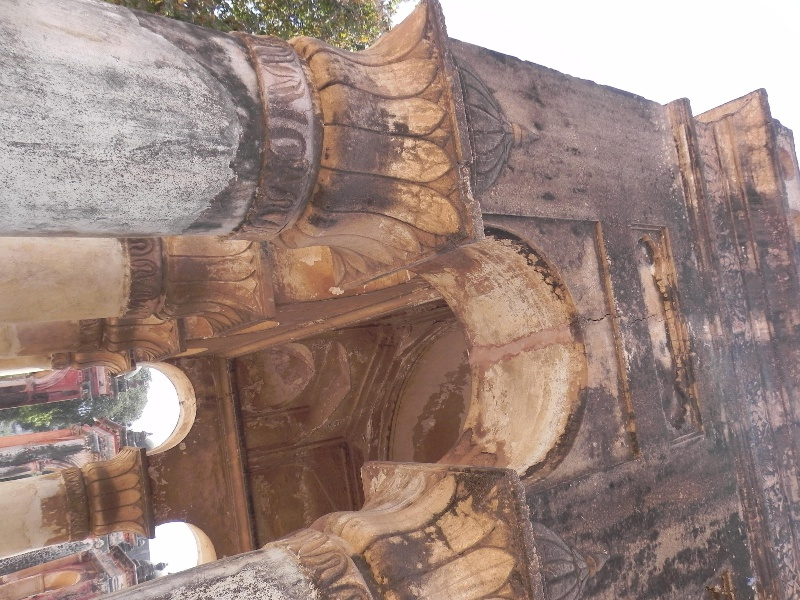Crack: (584, 309, 619, 326)
